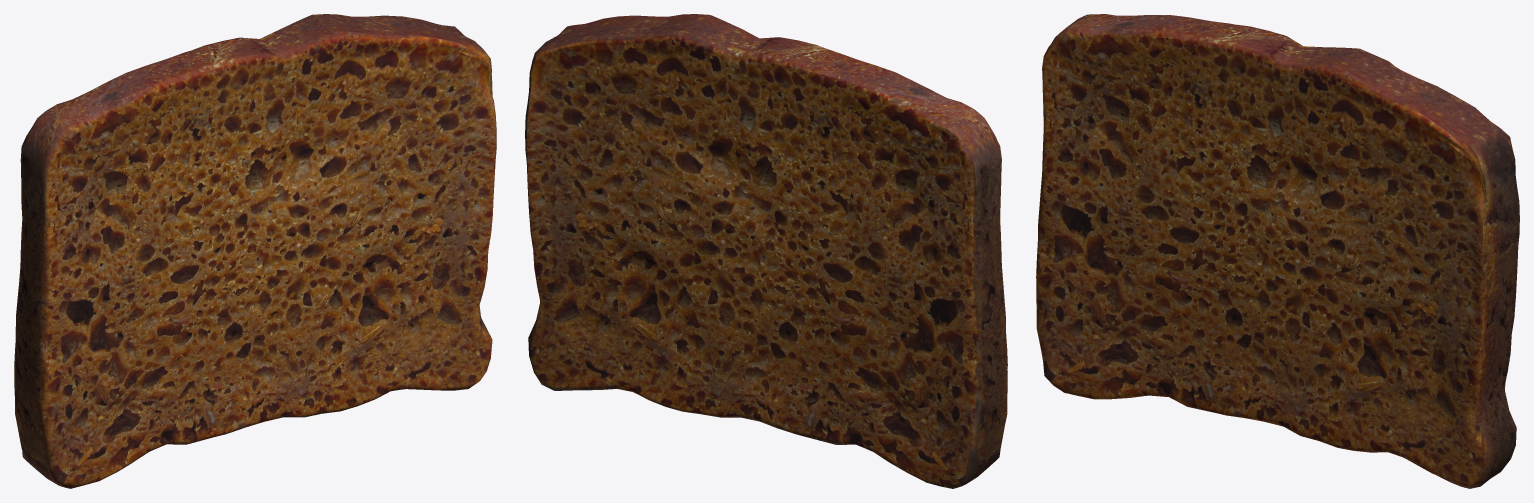
Rendered from breadslice.fbx.
The picture shows the model from 3 angles, left to right: view 1: azimuth 30°, elevation 25°; view 2: azimuth 150°, elevation 25°; view 3: azimuth 330°, elevation 25°; orthographic projection.
Visible parts, largest first — view 1: Mesh_0; view 2: Mesh_0; view 3: Mesh_0.
Boxes of the visible parts, box(x1,y1,x2,y2) form: Mesh_0: box(14, 14, 496, 488); Mesh_0: box(525, 14, 1007, 488); Mesh_0: box(1036, 14, 1519, 488).
Size of the model in its own units: 2255 by 1848 by 306.
